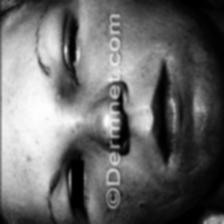Toxin: (88, 1, 110, 82), (128, 168, 160, 218), (94, 90, 106, 144), (52, 88, 74, 110)
